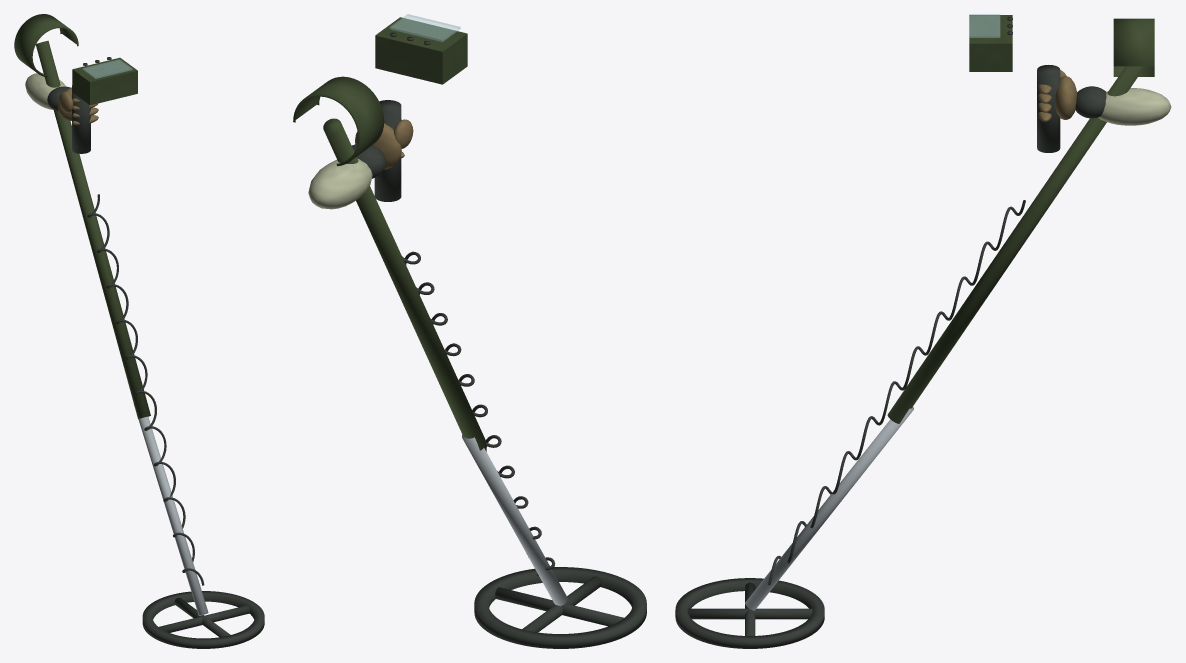
The model's file is detector.glb.
3 renders of one model, left to right at view 1: azimuth 30°, elevation 25°; view 2: azimuth 150°, elevation 25°; view 3: azimuth 270°, elevation 25°, orthographic. The views are drawn at different scales.
Parts seen in each view (by area): view 1: upper shaft, coil outer hoop, angled display, lower shaft, coil cable, arm cuff, grip, coil spoke, canvas sleeve, screen glass, coil spoke.001; view 2: upper shaft, coil outer hoop, angled display, arm cuff, lower shaft, canvas sleeve, coil spoke, coil cable, grip, screen glass, coil spoke.001, gloved palm (+1 smaller); view 3: upper shaft, coil outer hoop, lower shaft, angled display, arm cuff, canvas sleeve, coil cable, grip, coil spoke.001, glove cuff, gloved palm, screen glass.
Part boxes in pixels (bbox=[...]): upper shaft: bbox=[36, 40, 150, 419]; coil outer hoop: bbox=[142, 591, 264, 648]; angled display: bbox=[72, 57, 137, 105]; lower shaft: bbox=[138, 416, 208, 615]; coil cable: bbox=[87, 194, 204, 585]; arm cuff: bbox=[14, 14, 78, 77]; grip: bbox=[72, 85, 90, 153]; coil spoke: bbox=[159, 605, 249, 632]; canvas sleeve: bbox=[25, 73, 65, 109]; screen glass: bbox=[82, 59, 132, 78]; coil spoke.001: bbox=[174, 597, 230, 637]; upper shaft: bbox=[323, 118, 486, 450]; coil outer hoop: bbox=[474, 567, 646, 648]; angled display: bbox=[375, 17, 467, 84]; arm cuff: bbox=[293, 76, 384, 166]; lower shaft: bbox=[462, 434, 567, 605]; canvas sleeve: bbox=[308, 159, 372, 209]; coil spoke: bbox=[495, 587, 624, 626]; coil cable: bbox=[402, 251, 555, 576]; grip: bbox=[374, 100, 401, 201]; screen glass: bbox=[389, 14, 460, 41]; coil spoke.001: bbox=[522, 576, 601, 632]; gloved palm: bbox=[355, 123, 401, 169]; upper shaft: bbox=[887, 66, 1144, 423]; coil outer hoop: bbox=[675, 578, 824, 648]; lower shaft: bbox=[745, 407, 913, 610]; angled display: bbox=[969, 15, 1012, 71]; arm cuff: bbox=[1113, 18, 1154, 76]; canvas sleeve: bbox=[1098, 88, 1171, 125]; coil cable: bbox=[768, 200, 1025, 585]; grip: bbox=[1037, 65, 1060, 152]; coil spoke.001: bbox=[687, 608, 812, 619]; glove cuff: bbox=[1075, 86, 1106, 118]; gloved palm: bbox=[1055, 76, 1077, 119]; screen glass: bbox=[969, 14, 1000, 37].
Bounding box in the file's own units: 0.31 × 1.37 × 1.03.
6 materials, 6 textured.
